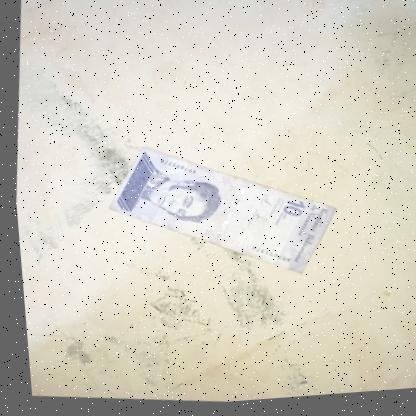ten-front-vef: (94, 134, 342, 293)
